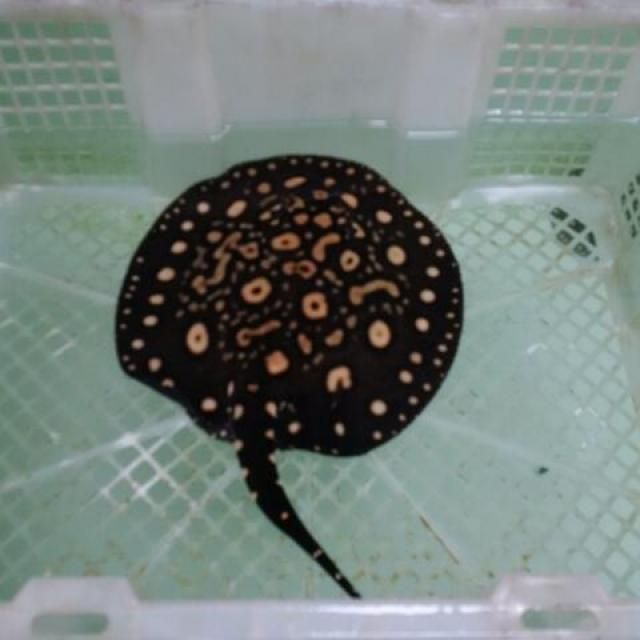black-diamond-sting-ray: (102, 132, 508, 612)
